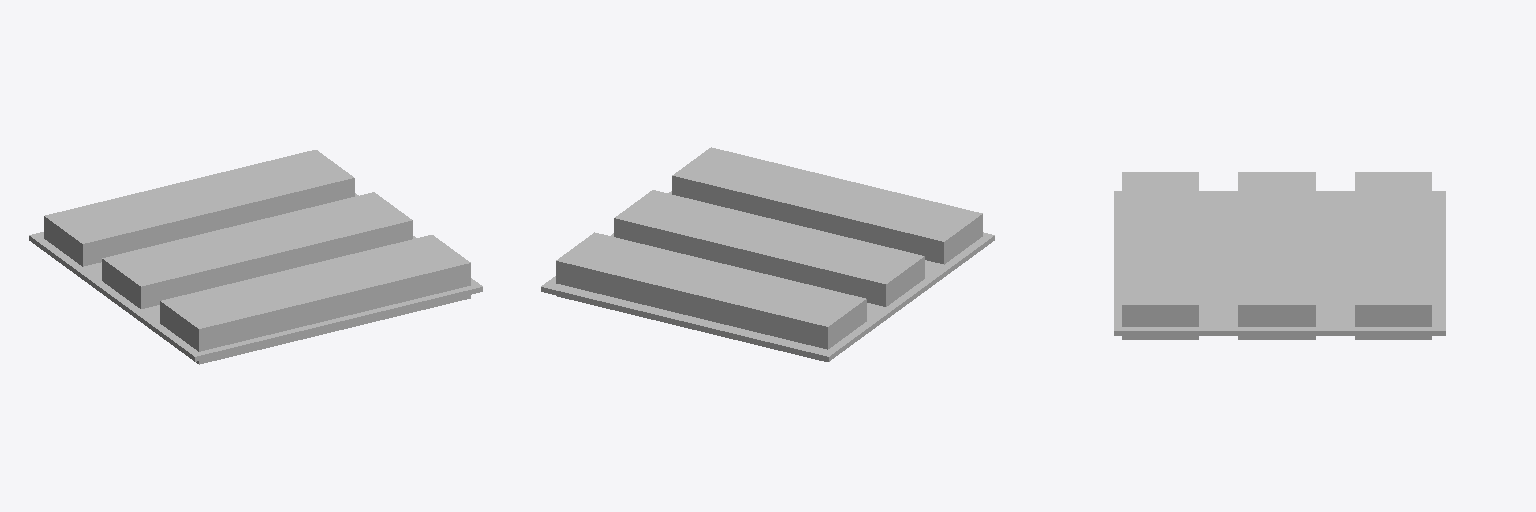
Rendered from field_hop.obj.
3 views of the same model, side by side, from view 1: azimuth 30°, elevation 25°; view 2: azimuth 150°, elevation 25°; view 3: azimuth 270°, elevation 25° (orthographic).
Parts seen in each view (by area): view 1: Cube.001_Matériau, Cube_Material.002; view 2: Cube.001_Matériau, Cube_Material.002; view 3: Cube.001_Matériau, Cube_Material.002.
Boxes of the visible parts, x1,y1,x2,y2 form: Cube.001_Matériau: [44, 150, 470, 364]; Cube_Material.002: [29, 193, 482, 361]; Cube.001_Matériau: [556, 147, 982, 361]; Cube_Material.002: [541, 191, 994, 361]; Cube.001_Matériau: [1122, 172, 1431, 339]; Cube_Material.002: [1114, 191, 1445, 335].
Bounding box in the file's own units: 8.57 × 1.01 × 8.57.